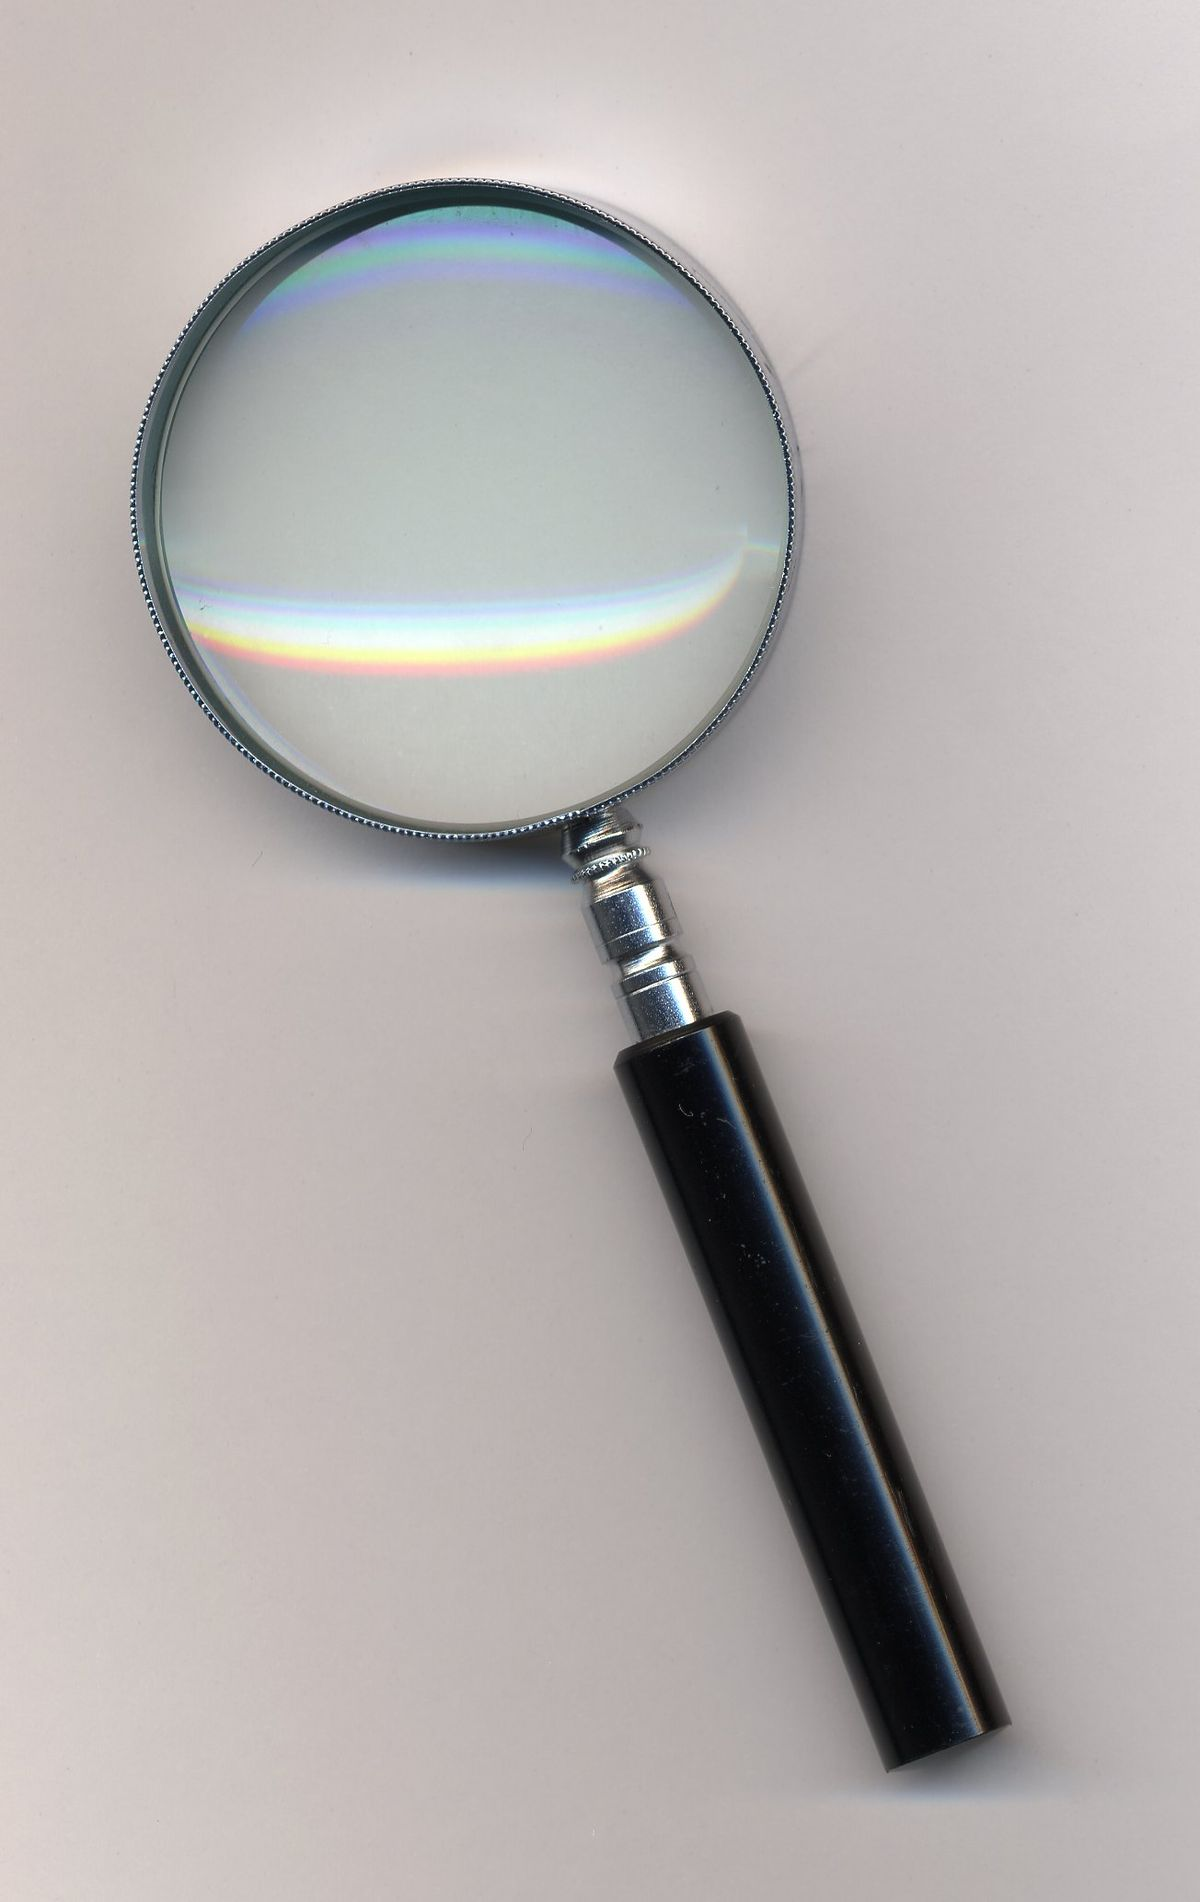magnifying-glass: (101, 140, 951, 1299)
